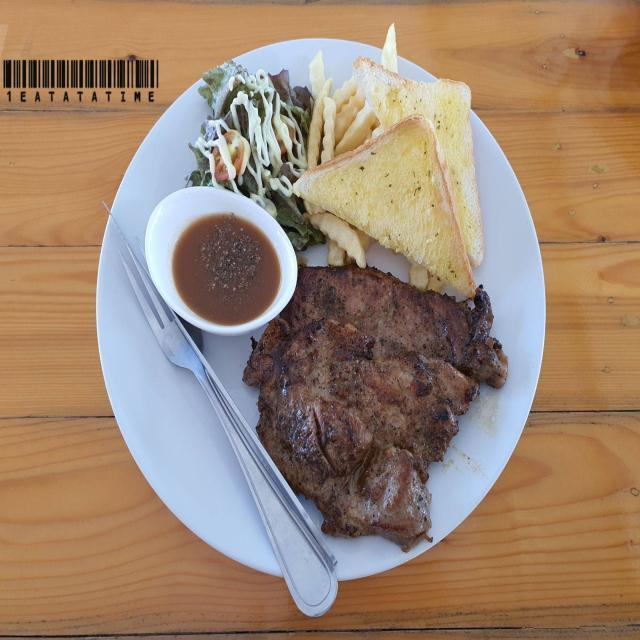banh mi sandwish: (302, 118, 473, 289)
cac loai rau cu: (184, 62, 362, 255)
khoai tay chien: (296, 22, 441, 285), (356, 56, 479, 257)
thit heo: (247, 258, 518, 553)
thit lon bistek: (177, 19, 533, 590)
